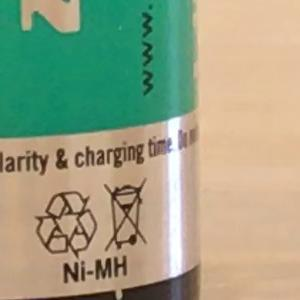NI-MH: (53, 245, 137, 294)
